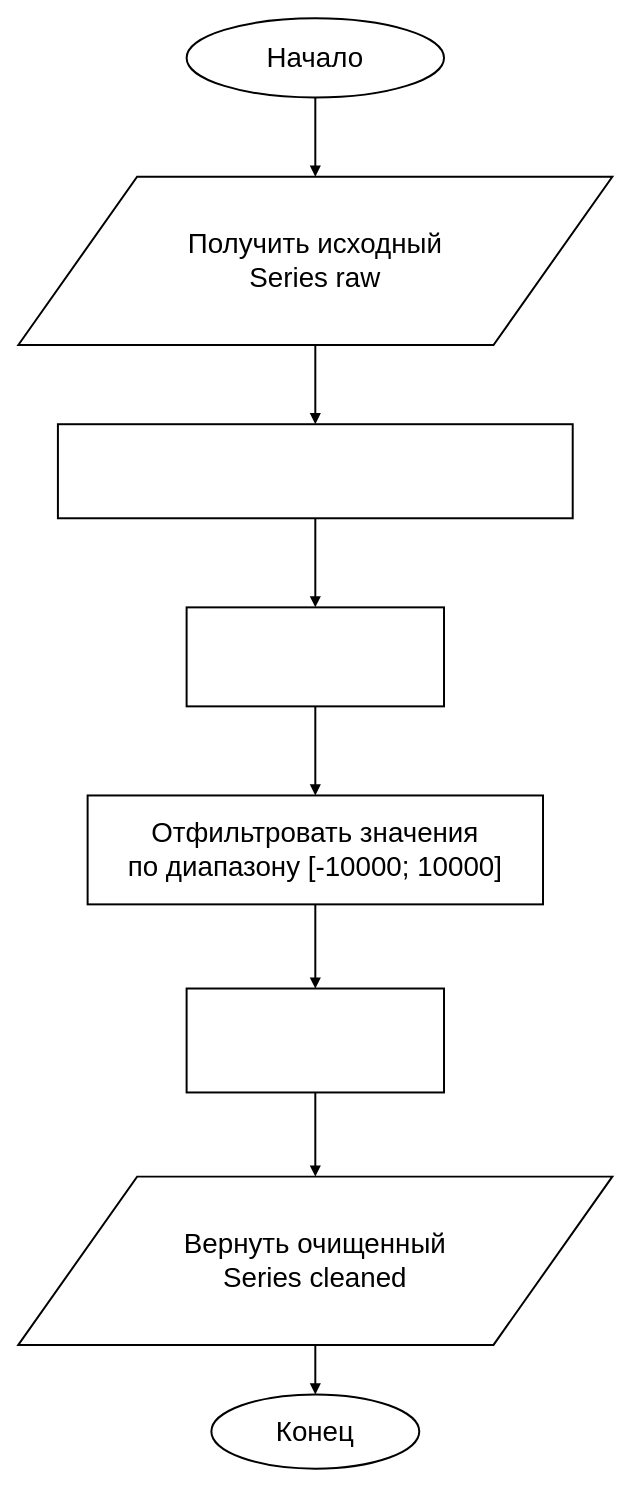
Image size: 630x1486. Some labels were removed from this diagram. The shapes that lost their labels are listed below. From the top down, each one's centre as x and y in pixels, then its label:
At pixel 314 471: "Преобразовать элементы в числа pd.to_numeric(errors='coerce')".
At pixel 315 656: "Удалить пропуски dropna()".
At pixel 315 1040: "Привести к int и сбросить индекс".
